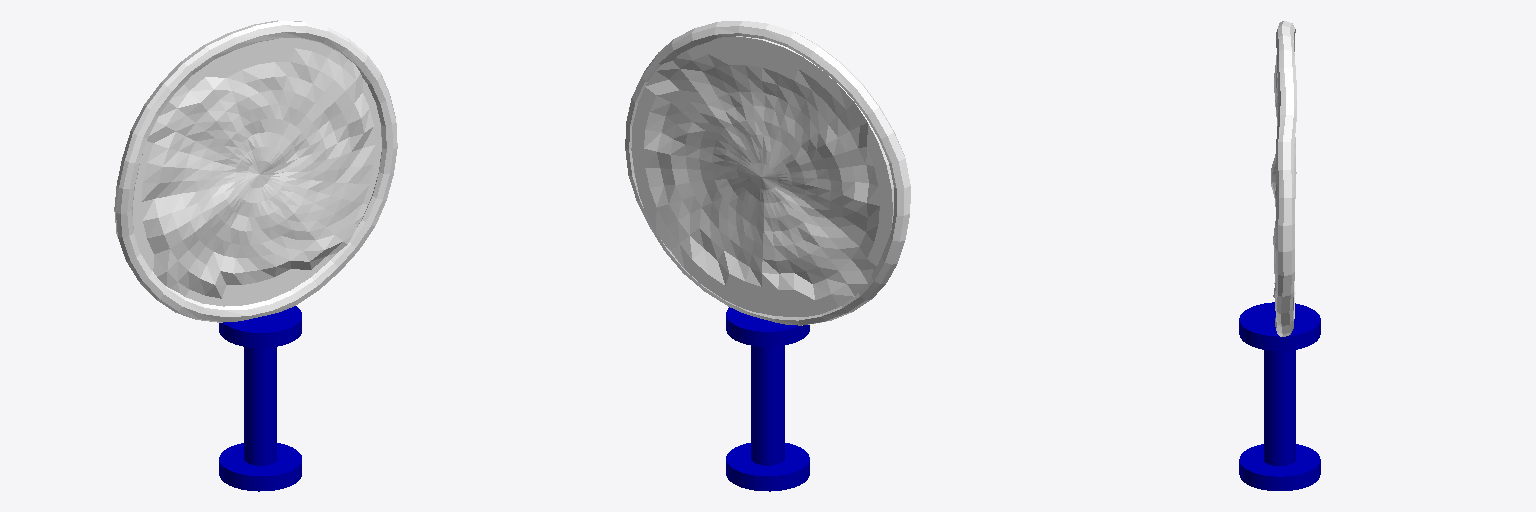
URDF robot description (physics):
<?xml version="1.0"?>
<robot name="physics">
  <link name="base_link">
    <visual>
      <geometry>
        <cylinder length="0.02" radius="0.05"/>
      </geometry>
      <material name="blue">
        <color rgba="0 0 .8 1"/>
      </material>
    </visual>
    <collision>
      <geometry>
        <cylinder length="0.02" radius="0.05"/>
      </geometry>
    </collision>
    <inertial>
      <mass value="0.01"/>
      <inertia ixx="0.000002" ixy="0.0" ixz="0.0" iyy="0.000002" iyz="0.0" izz="0.000002"/>
    </inertial>
  </link>

  <link name="grasp_cylinder">
    <visual>
      <geometry>
        <cylinder length="0.18" radius="0.02"/>
      </geometry>
      <material name="blue">
        <color rgba="0 0 .8 1"/>
      </material>
    </visual>
    <collision>
      <geometry>
        <cylinder length="0.12" radius="0.01"/>
      </geometry>
    </collision>
    <inertial>
      <mass value="0.01"/>
      <inertia ixx="0.000002" ixy="0.0" ixz="0.0" iyy="0.000002" iyz="0.0" izz="0.000002"/>
    </inertial>
  </link>

  <joint name="jfixed1" type="fixed">
    <parent link="base_link"/>
    <child link="grasp_cylinder"/>
    <origin xyz="0 0 0.09"/>
  </joint>


  <link name="top_cylinder">
    <visual>
      <geometry>
        <cylinder length="0.02" radius="0.05"/>
      </geometry>
      <material name="blue">
        <color rgba="0 0 .8 1"/>
      </material>
    </visual>
    <collision>
      <geometry>
        <cylinder length="0.02" radius="0.05"/>
      </geometry>
    </collision>
    <inertial>
      <mass value="0.01"/>
      <inertia ixx="0.000002" ixy="0.0" ixz="0.0" iyy="0.000002" iyz="0.0" izz="0.000002"/>
    </inertial>
  </link>

  <joint name="jfixed2" type="fixed">
    <parent link="grasp_cylinder"/>
    <child link="top_cylinder"/>
    <origin xyz="0 0 0.1"/>
  </joint>

  <link name="bouteille">
    <contact>
      <lateral_friction value="1.0"/>
      <rolling_friction value="0.0"/>
      <contact_cfm value="0.0"/>
      <contact_erp value="1.0"/>
    </contact>
    <inertial>
      <origin rpy="0 0 0" xyz="0.0 0.02 0.0"/>
       <mass value=".001"/>
       <inertia ixx="1e-9" ixy="0" ixz="0" iyy="1e-9" iyz="0" izz="1e-9"/>
    </inertial>
    <visual>
      <origin rpy="0 0 0" xyz="0 0 0"/>
      <geometry>
        <mesh filename="pizza/pizza.obj" scale="0.5 0.5 0.5"/>
      </geometry>
       <material name="white">
        <color rgba="1 1 1 1"/>
      </material>
    </visual>
    <collision>
      <origin rpy="0 0 0" xyz="0 0 0"/>
      <geometry>
	 	<mesh filename="pizza/pizza.obj" scale="0.5 0.5 0.5"/>
      </geometry>
    </collision>
  </link>

    <joint name="jfixed_stuff" type="fixed">
    <parent link="top_cylinder"/>
    <child link="bouteille"/>
    <origin rpy="0 0 0" xyz="0 0 0.2"/>
  </joint>
</robot>

--- What the picture shows (computed from the rendered views, not written in the file) ---
3 views of the same robot in one strip: view 1: azimuth 30°, elevation 25°; view 2: azimuth 150°, elevation 25°; view 3: azimuth 270°, elevation 25° (orthographic).
Robot: physics — 4 links, 3 joints (3 fixed); root link base_link; default pose: all joints at 0.
Links seen in each view (by area): view 1: bouteille, grasp_cylinder, base_link, top_cylinder; view 2: bouteille, grasp_cylinder, base_link, top_cylinder; view 3: bouteille, grasp_cylinder, top_cylinder, base_link.
Boxes of the visible links, x1,y1,x2,y2 form: bouteille: (114, 20, 397, 322); grasp_cylinder: (244, 347, 276, 465); base_link: (219, 443, 301, 491); top_cylinder: (219, 306, 301, 347); bouteille: (625, 21, 910, 325); grasp_cylinder: (751, 346, 784, 465); base_link: (726, 443, 809, 491); top_cylinder: (726, 307, 809, 346); bouteille: (1271, 21, 1296, 336); grasp_cylinder: (1264, 350, 1295, 465); top_cylinder: (1239, 302, 1320, 350); base_link: (1239, 444, 1320, 490).
Bounding box of the posed robot: 0.3898 × 0.1 × 0.594 m (x, y, z).
Meshes: 1 distinct files referenced, 1 mesh visuals loaded (1 OBJ).